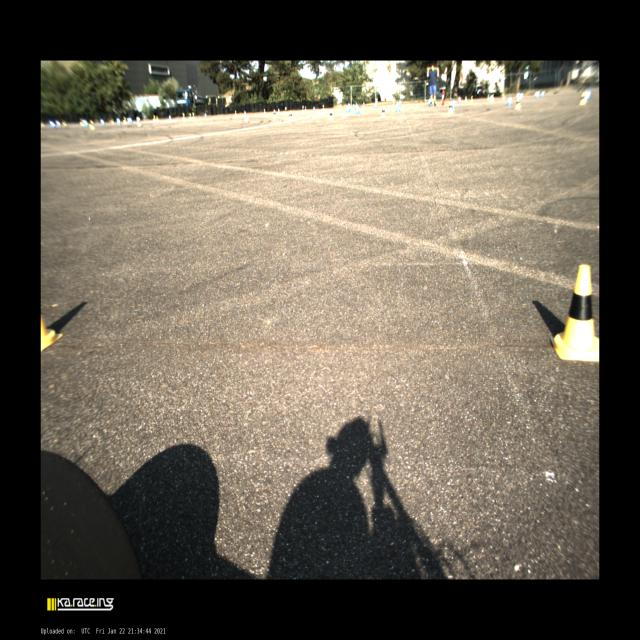yellow_cone: (551, 264, 599, 362), (41, 310, 62, 352)
